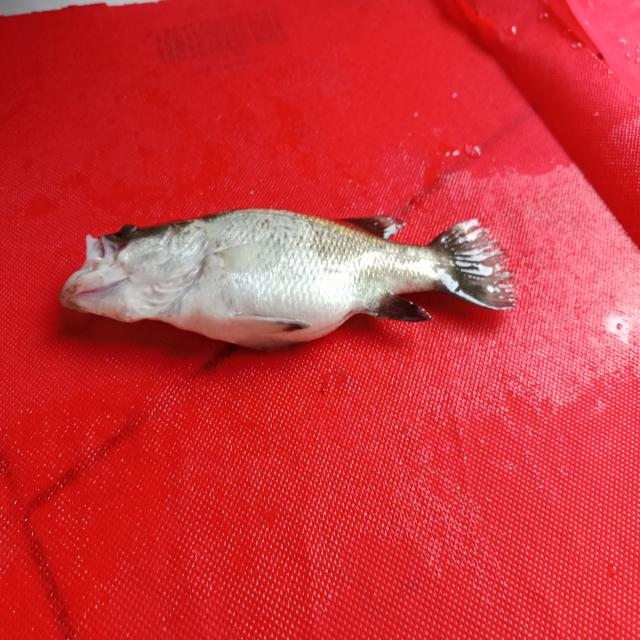ikan: (47, 183, 524, 356)
